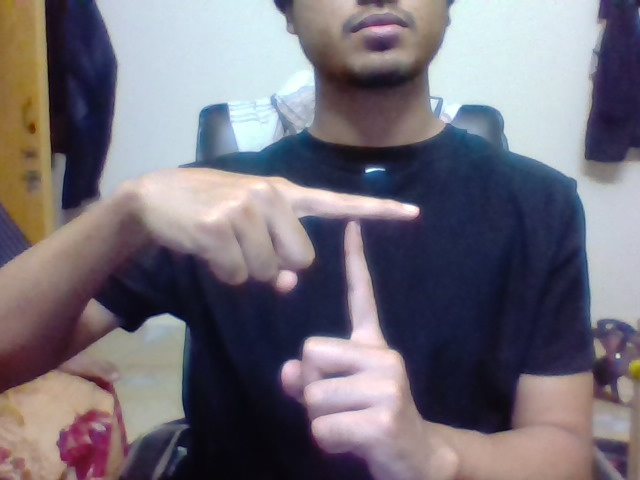T: (324, 178, 428, 314)
